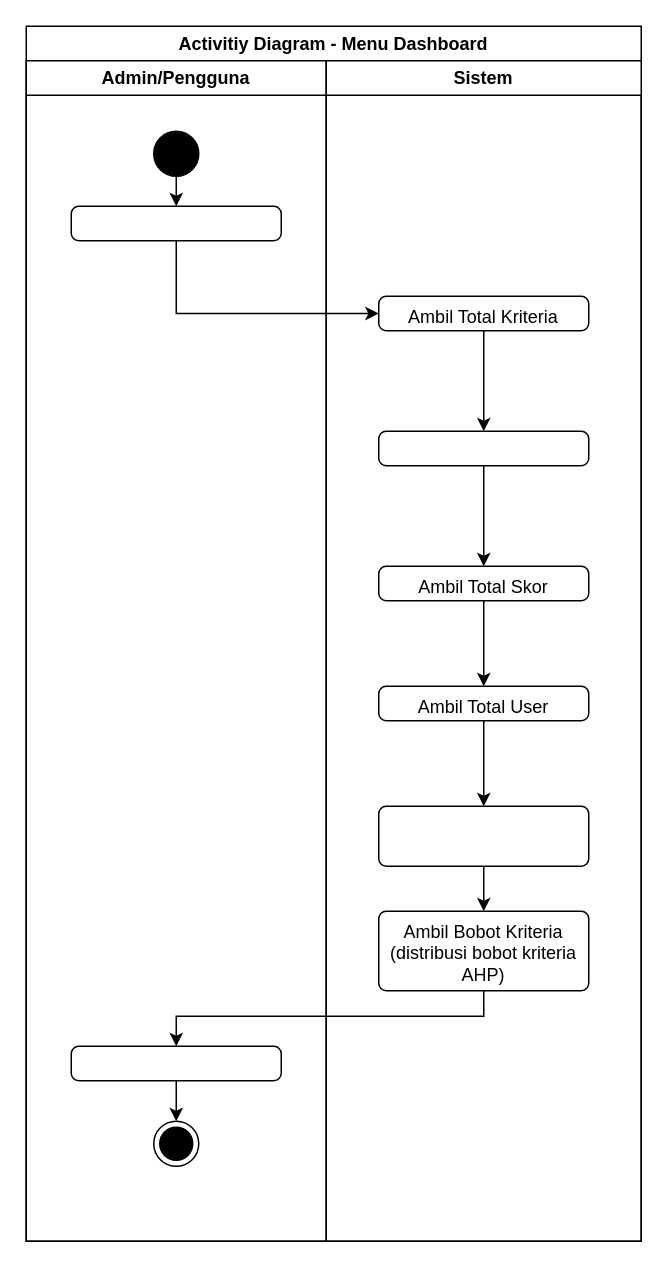
Some shapes in this 668 by 1268 pixel diagram are drawn without their labels. Here are the shapes that lost their labels. From the top down, the centre of each, then its label:
point (175, 223): pilih menu "Dashboard"
point (483, 448): Ambil Total Vendor
point (483, 835): Ambil Jumlah Tipe Kriteria
point (175, 1063): Melihat Halaman Utama
